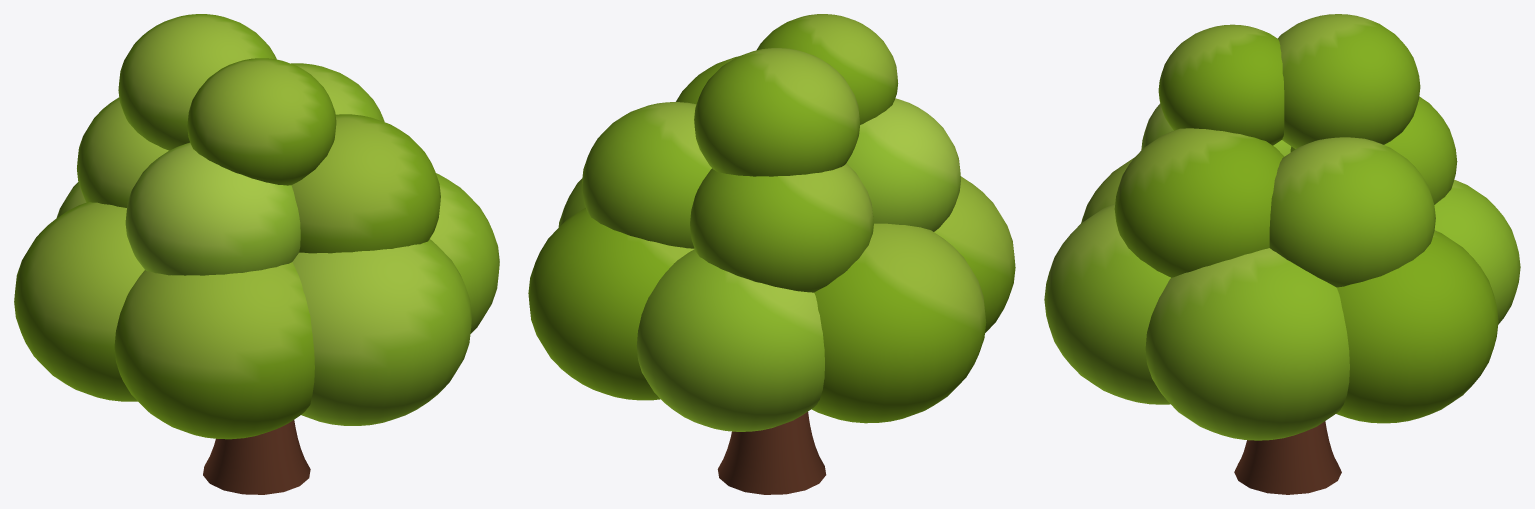
Rendered from pine-tree-116.obj.
The picture shows the model from 3 angles, left to right: view 1: azimuth 30°, elevation 25°; view 2: azimuth 150°, elevation 25°; view 3: azimuth 270°, elevation 25°; orthographic projection.
Visible parts, largest first — view 1: tree; view 2: tree; view 3: tree.
Part boxes in pixels (x1,y1,x2,y2): tree: [14, 14, 499, 494]; tree: [528, 14, 1015, 494]; tree: [1044, 14, 1520, 494].
Size of the model in its own units: 231 by 228 by 226.
